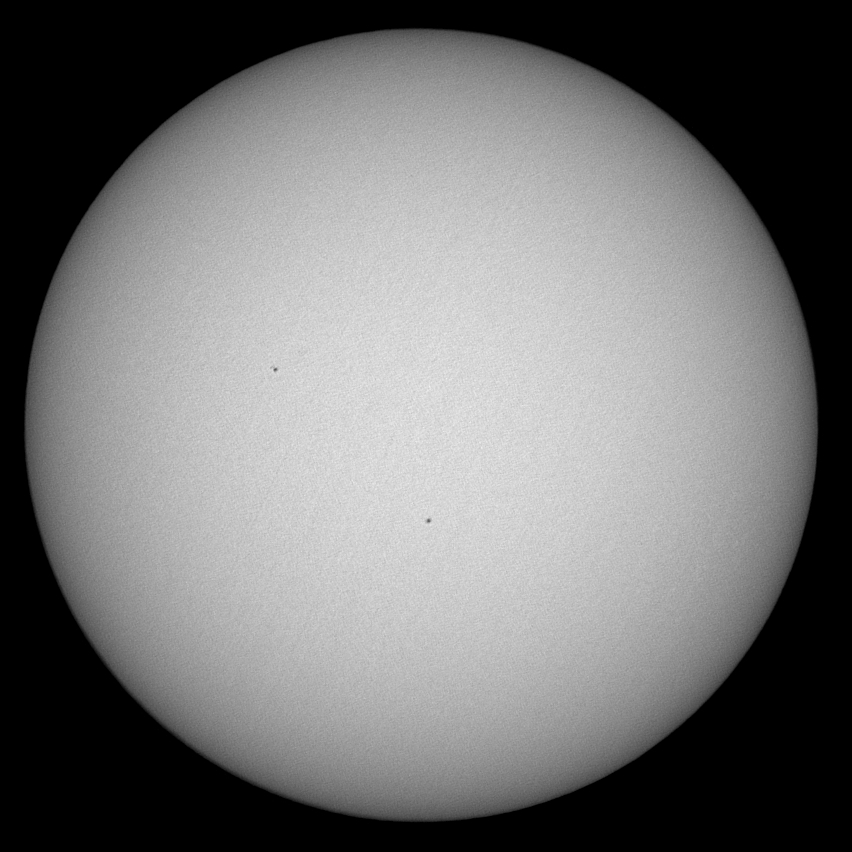sunspot: (419, 510, 437, 529), (265, 360, 283, 377)
